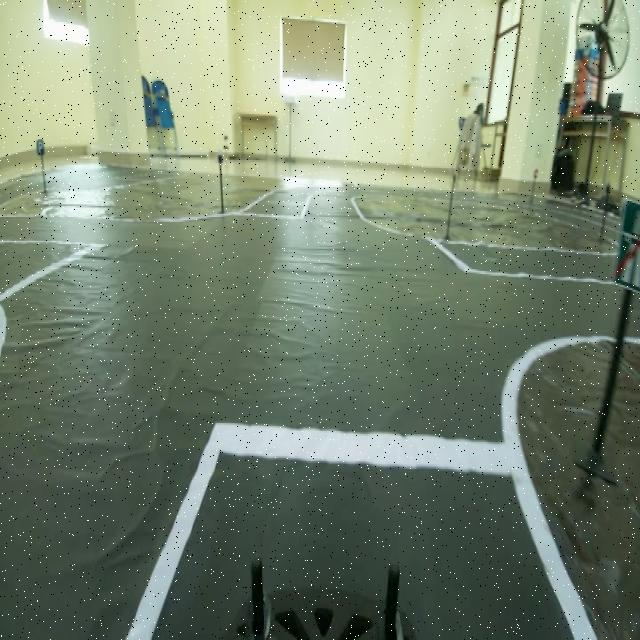highway_exit: (606, 190, 640, 306)
